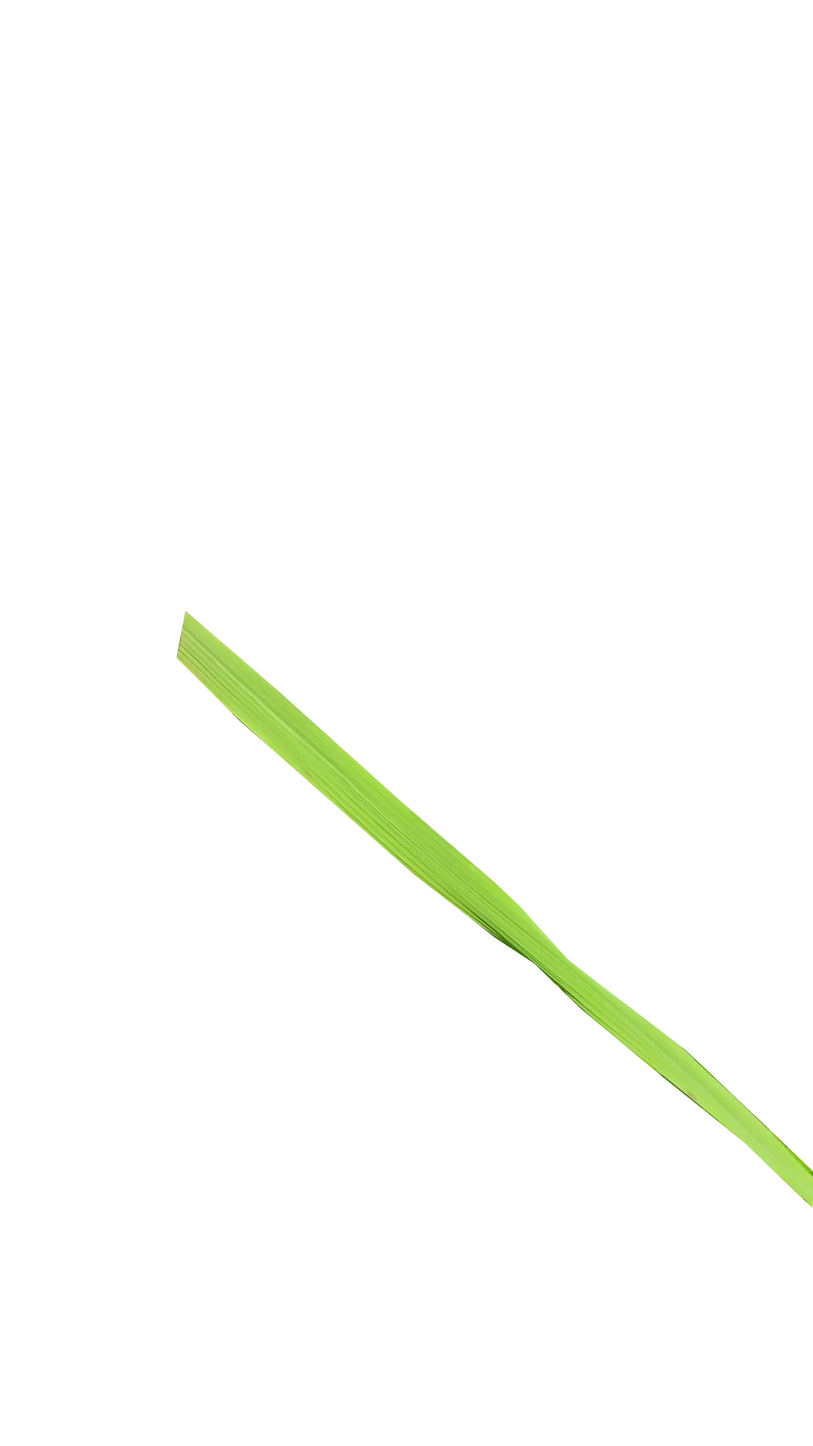Tungro: (174, 614, 813, 1216)
